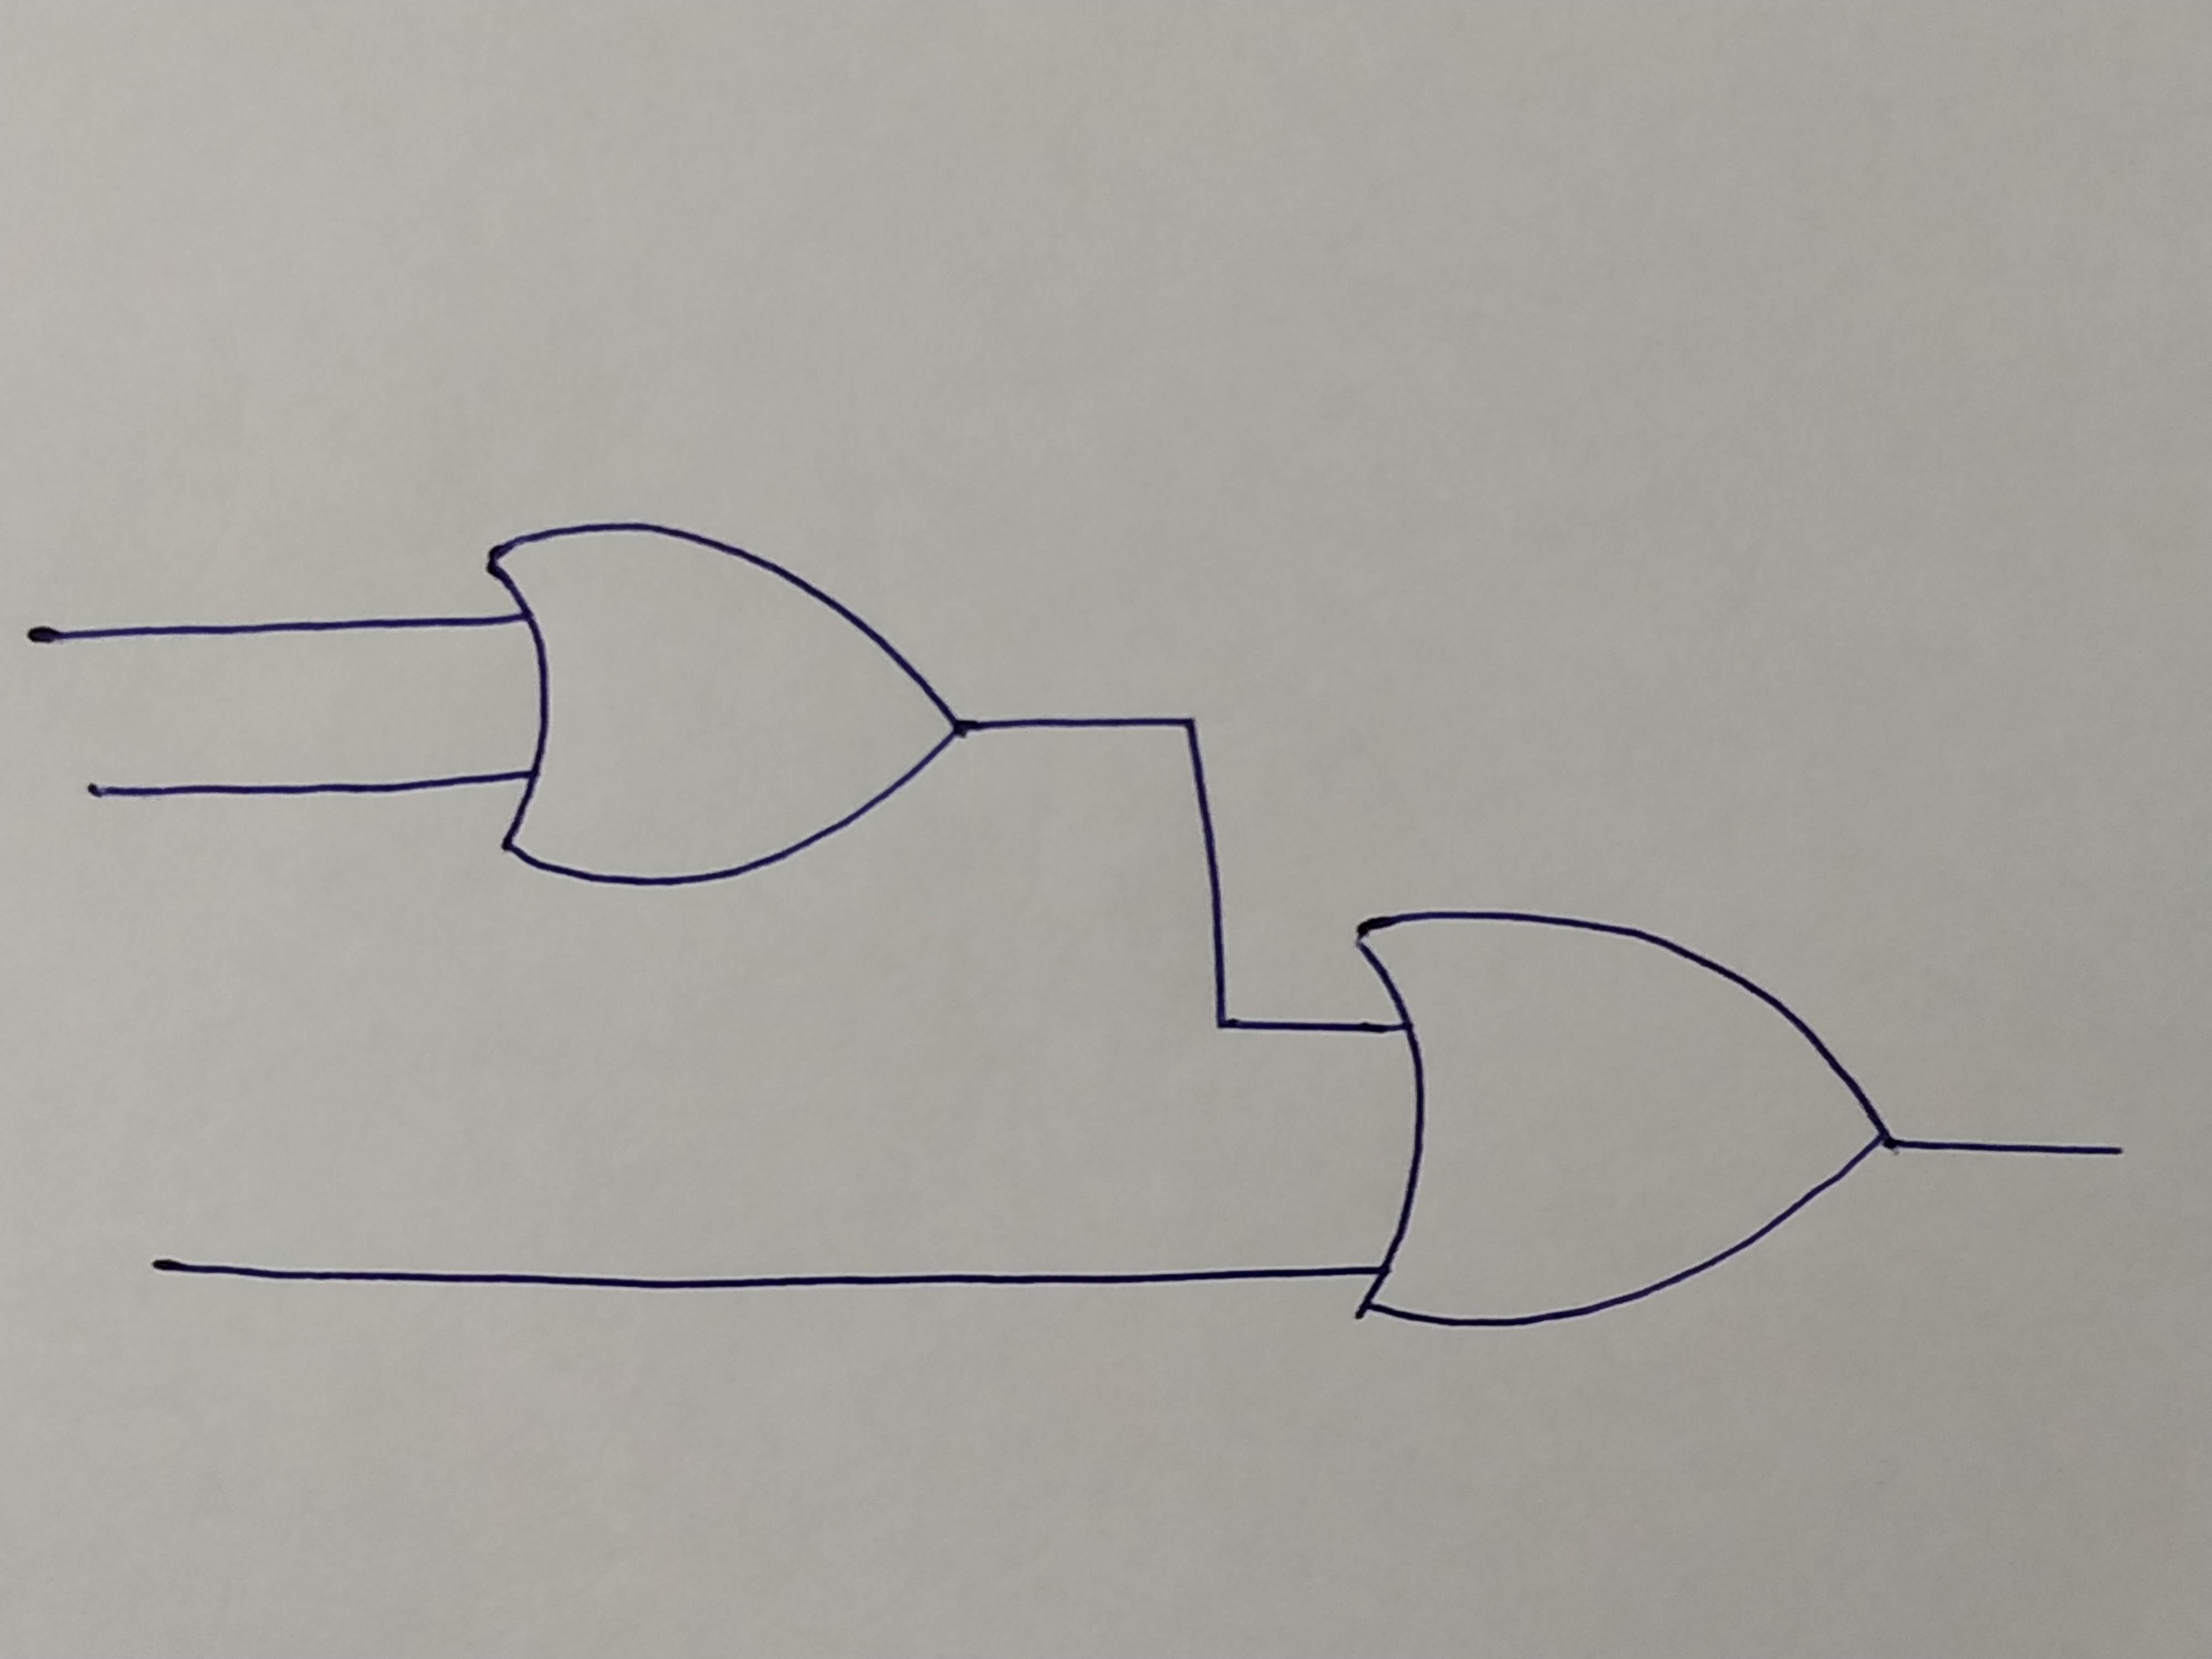or: (1348, 908, 1892, 1331), (479, 530, 968, 892)
